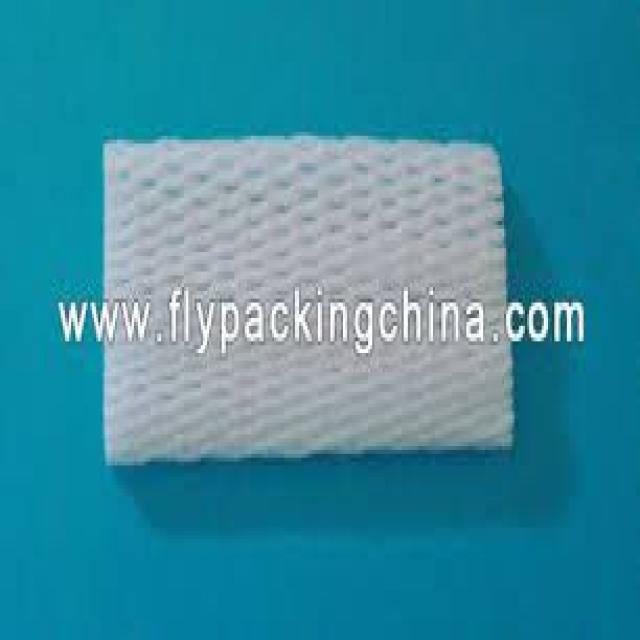Kertas: (101, 142, 512, 462)
